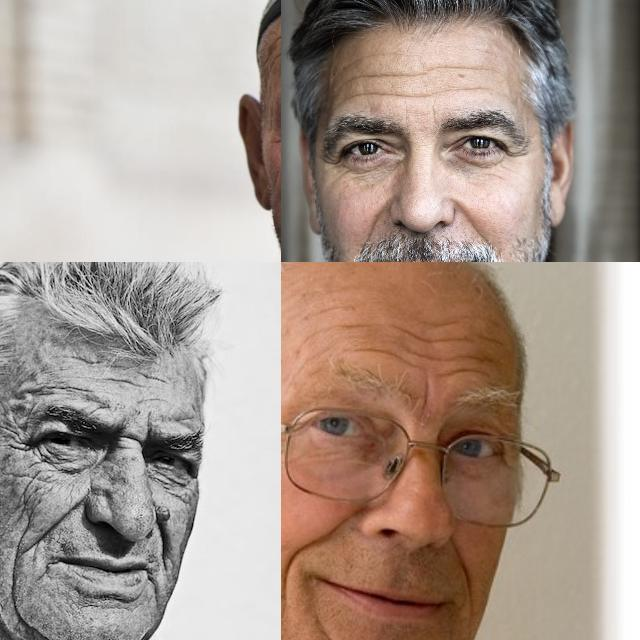chin: (86, 587, 128, 613)
crows_feet: (9, 424, 31, 460), (322, 150, 344, 176), (507, 146, 531, 164), (273, 120, 281, 151)
forehead: (74, 352, 168, 393), (348, 58, 422, 102), (436, 59, 514, 96), (450, 327, 496, 381), (327, 308, 375, 340), (400, 346, 446, 379), (390, 316, 434, 349), (346, 336, 392, 364), (268, 24, 281, 62)
frown_line: (412, 374, 434, 420), (115, 424, 145, 452), (429, 106, 441, 124)
gummy_smile: (30, 496, 88, 542), (444, 543, 480, 597), (284, 527, 330, 565), (447, 192, 483, 238), (366, 194, 390, 240), (153, 508, 173, 562), (281, 567, 296, 608)
masseter: (3, 551, 27, 621)
sad_smile: (143, 568, 163, 604), (34, 560, 56, 582)
